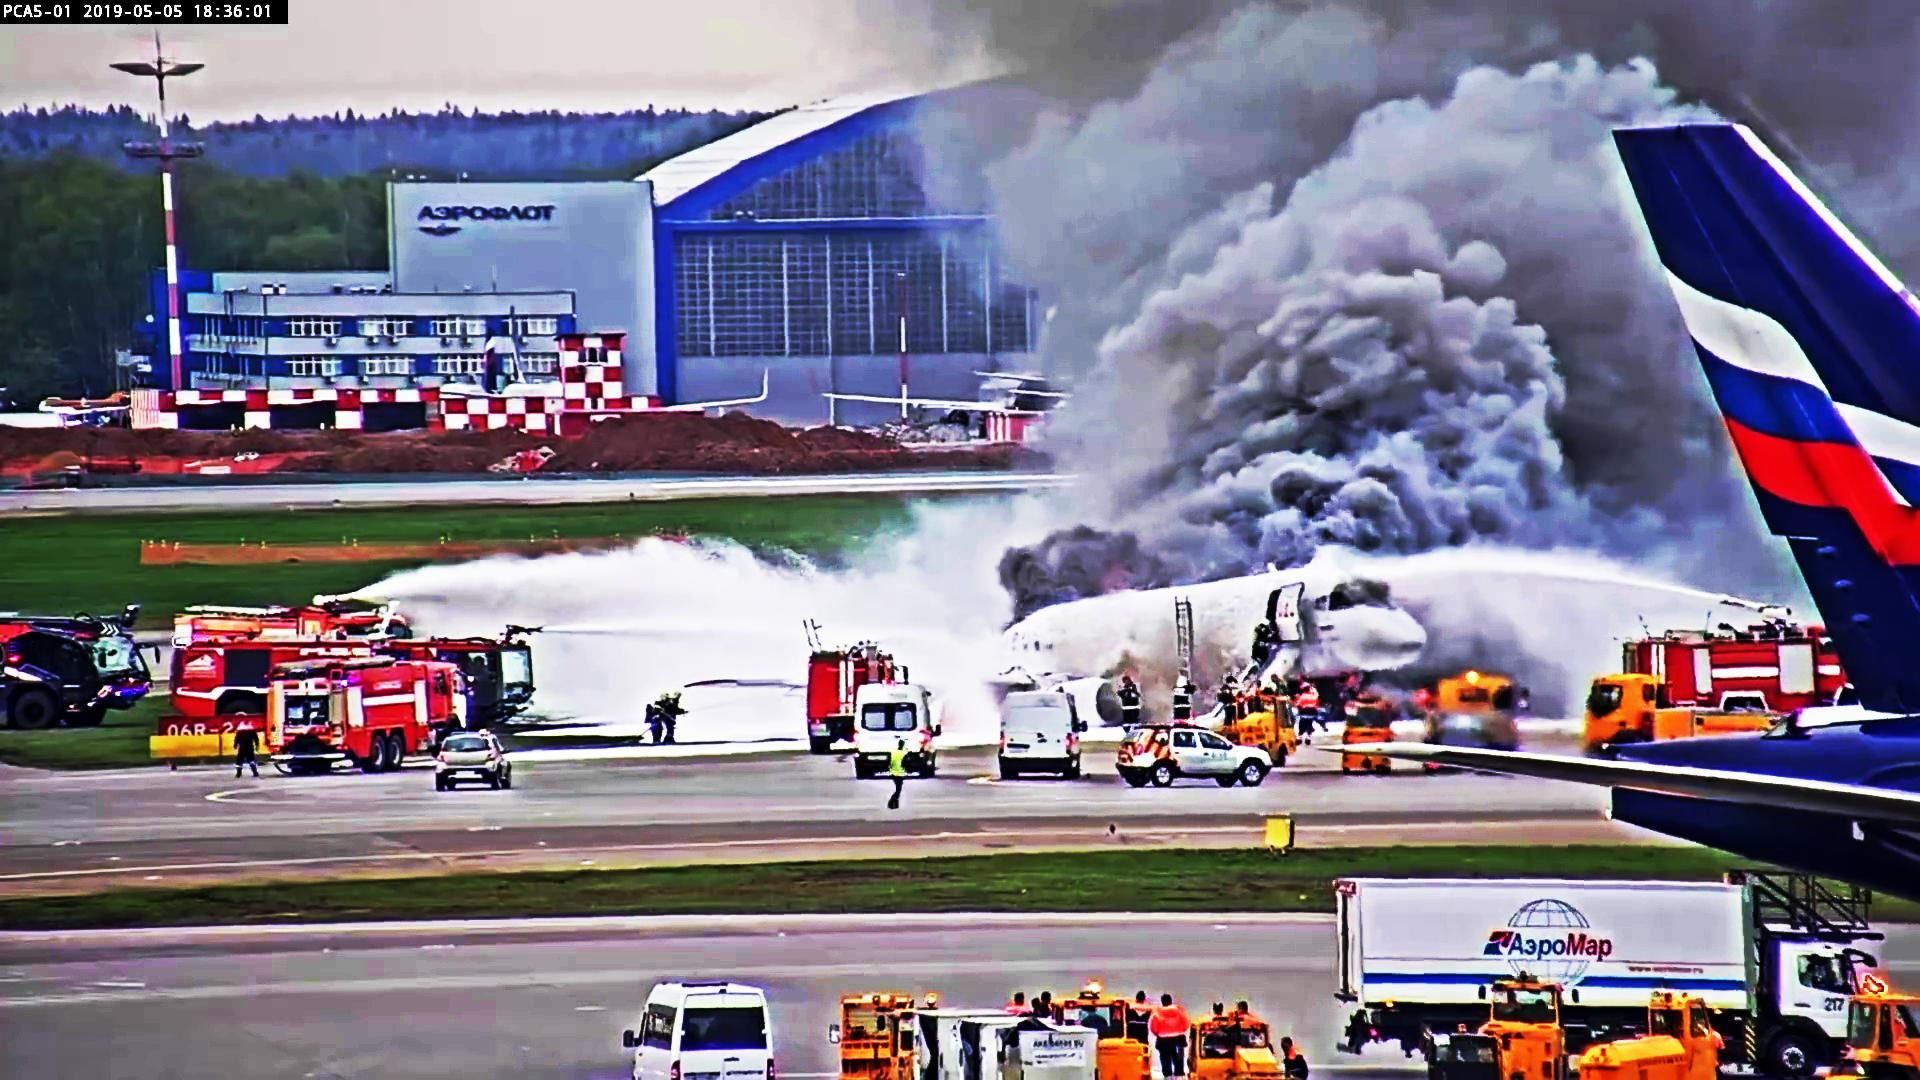smoke: (1193, 13, 1601, 521), (989, 0, 1518, 373)
